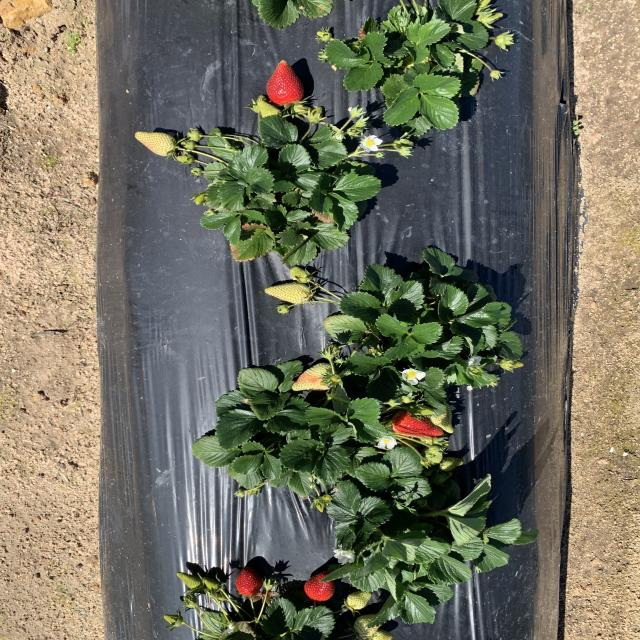unripe: (391, 407, 449, 436), (267, 59, 304, 104), (301, 568, 337, 600), (233, 562, 266, 596)
